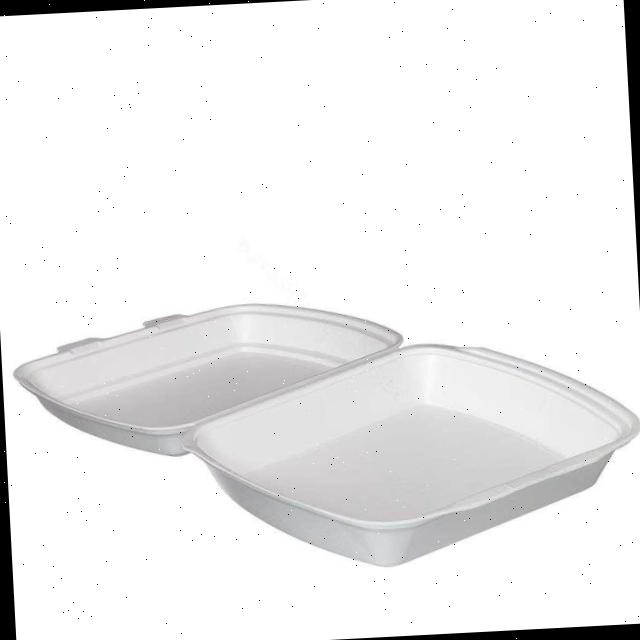styrofoam: (10, 280, 640, 586)
